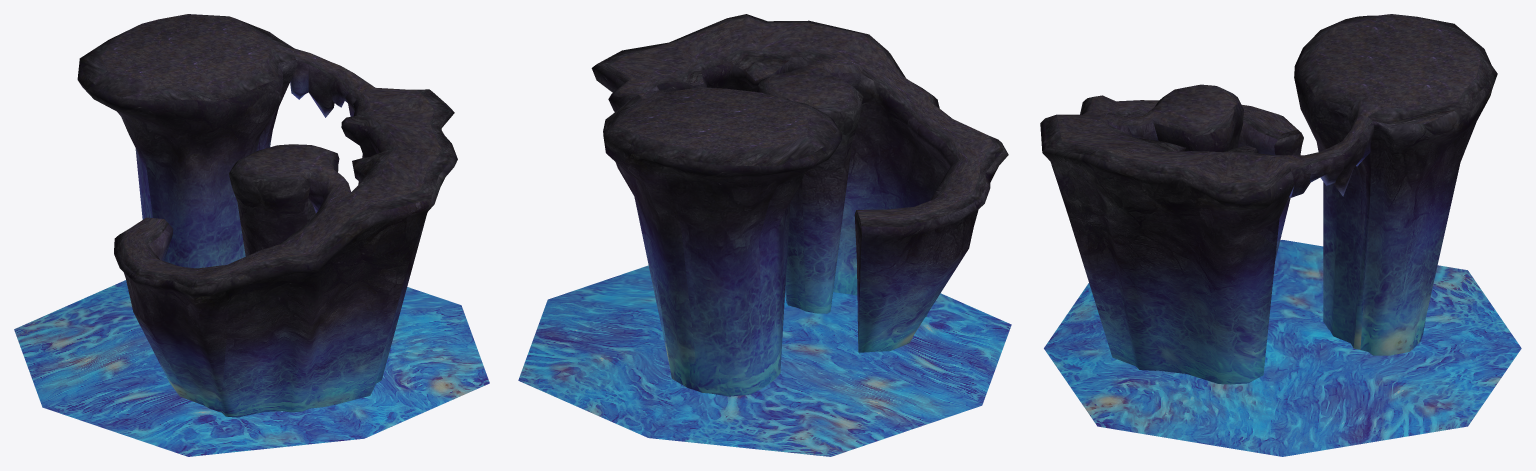
3 views of the same model, side by side, from view 1: azimuth 30°, elevation 25°; view 2: azimuth 150°, elevation 25°; view 3: azimuth 270°, elevation 25° (orthographic). The views are drawn at different scales.
Visible parts, largest first — view 1: headusOBJexport001, Plane003; view 2: headusOBJexport001, Plane003; view 3: headusOBJexport001, Plane003.
Part boxes in pixels (<box>): headusOBJexport001: <box>77,14,457,417</box>; Plane003: <box>14,280,489,456</box>; headusOBJexport001: <box>591,14,1008,396</box>; Plane003: <box>518,265,1011,456</box>; headusOBJexport001: <box>1040,14,1497,384</box>; Plane003: <box>1044,240,1521,456</box>.
Size of the model in its own units: 4580 by 2817 by 4291.
9 materials, 9 textured.
